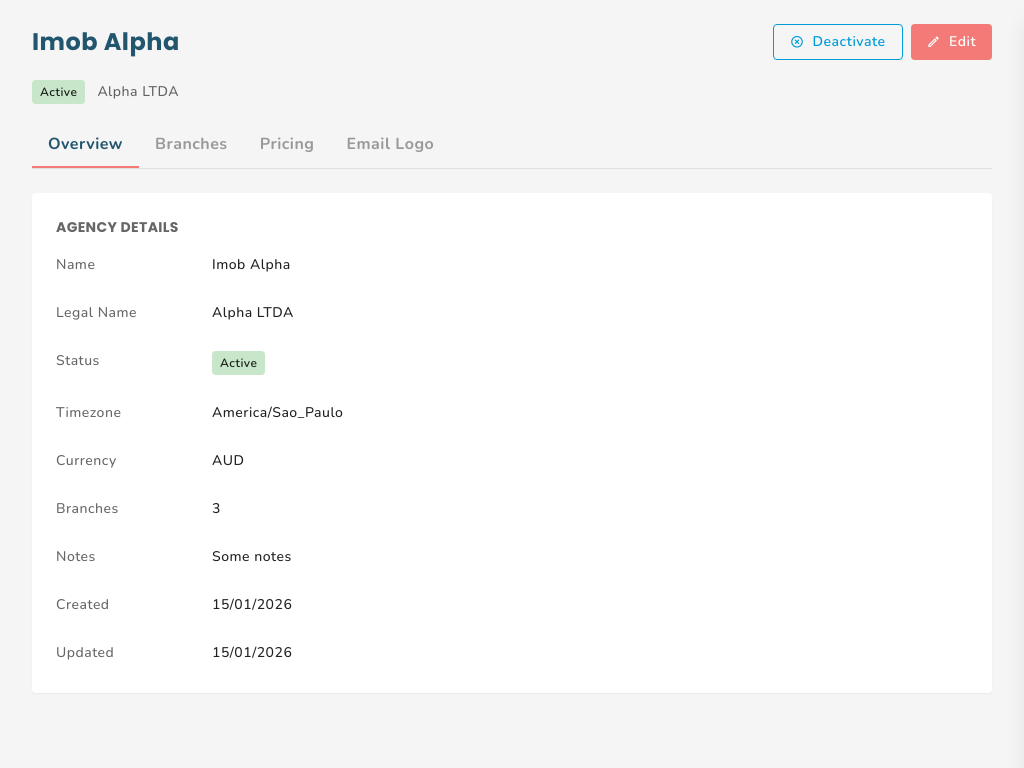
it: TenantDetailPage › renders the Email Logo tab and shows the section when selected
Click the tab "Email Logo" at (390, 144), box 330,120 -> 450,168
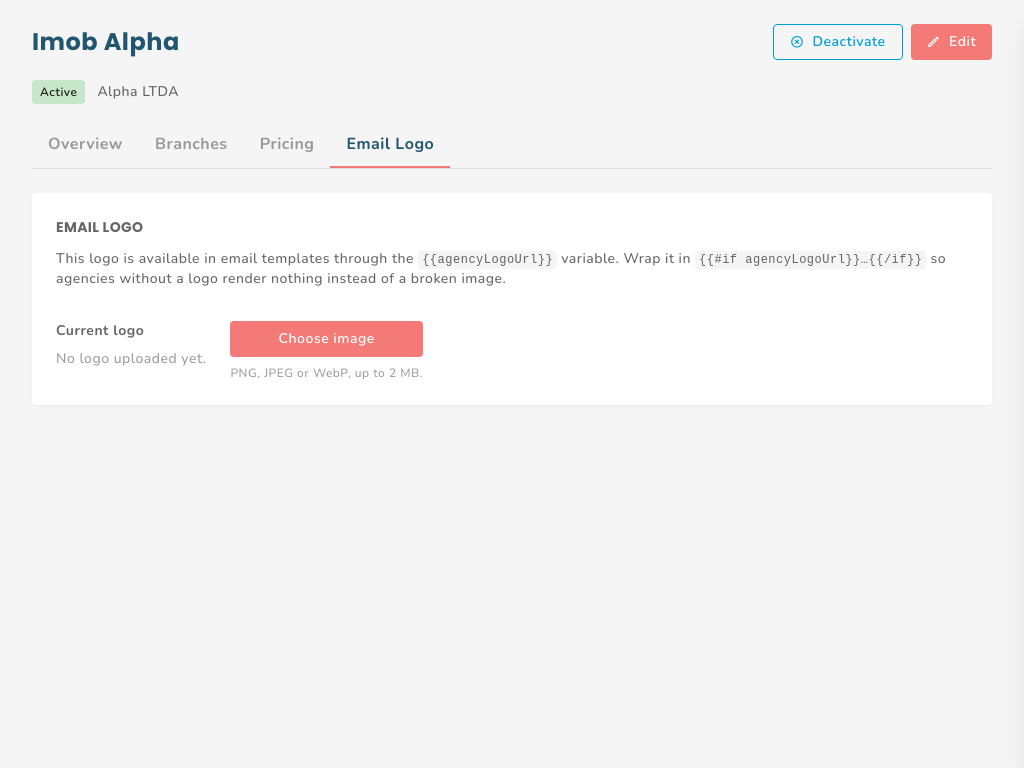
Now the text "No logo uploaded yet." is shown, box 56,349 -> 206,369
